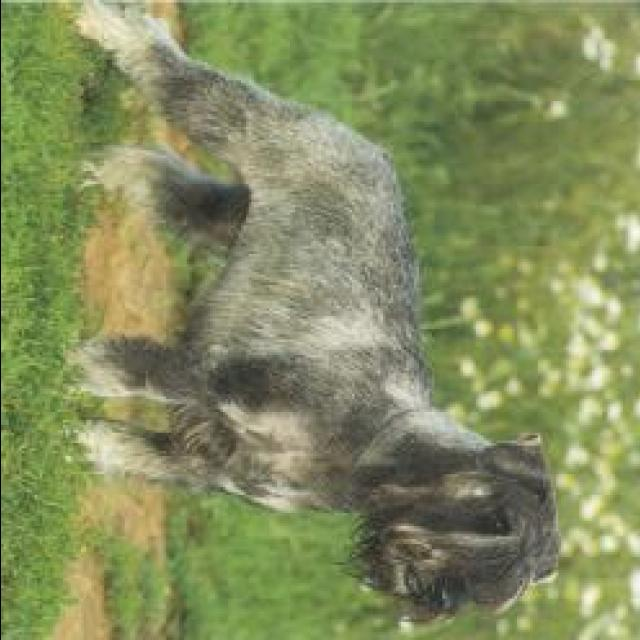standard_schnauzer: (57, 2, 560, 630)
